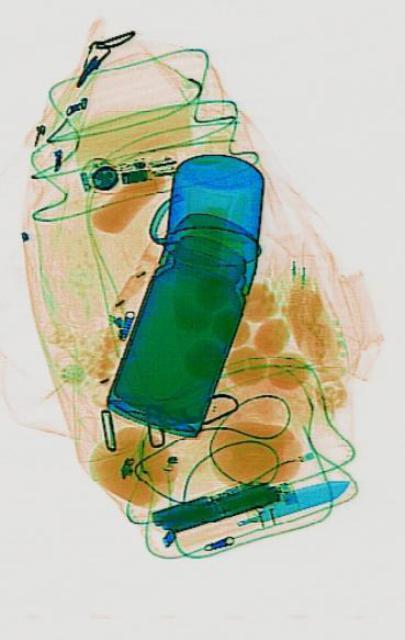Knife: (231, 470, 349, 532)
